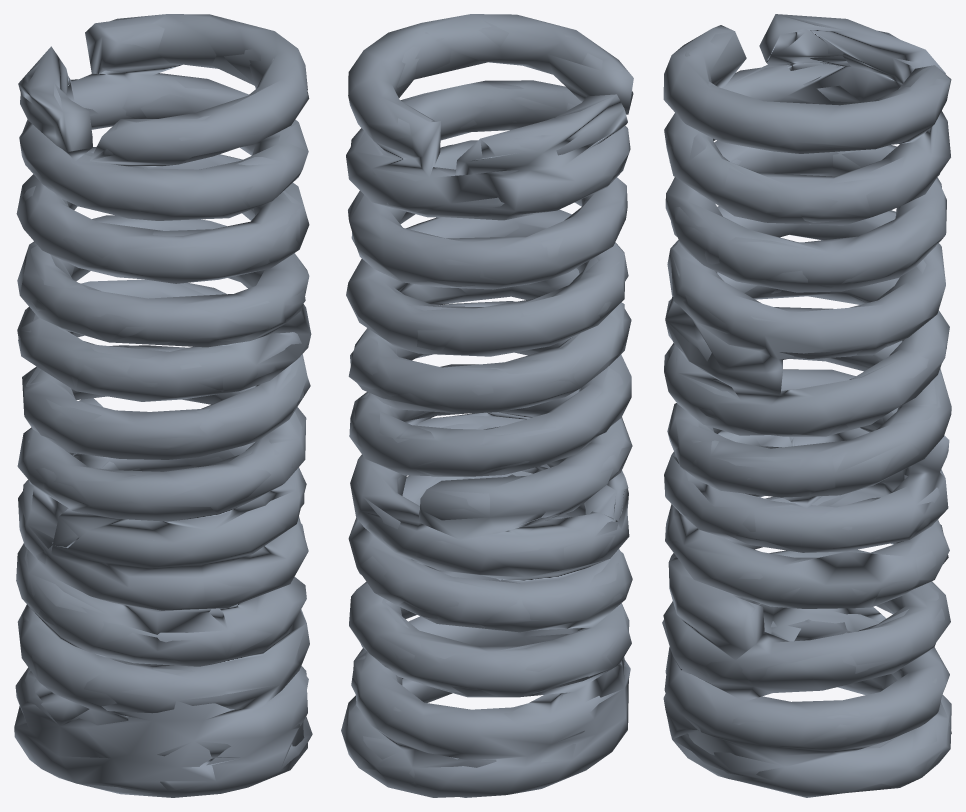
Rendered from gen3d-coil-spring-lod0.glb.
3 views of the same model, side by side, from view 1: azimuth 30°, elevation 25°; view 2: azimuth 150°, elevation 25°; view 3: azimuth 270°, elevation 25° (orthographic). The views are drawn at different scales.
Visible parts, largest first — view 1: part_0; view 2: part_0; view 3: part_0.
Part boxes in pixels (x1,y1,x2,y2): part_0: [14, 14, 312, 797]; part_0: [341, 14, 633, 797]; part_0: [662, 14, 951, 797].
Size of the model in its own units: 0.3821 by 0.9993 by 0.3786.
